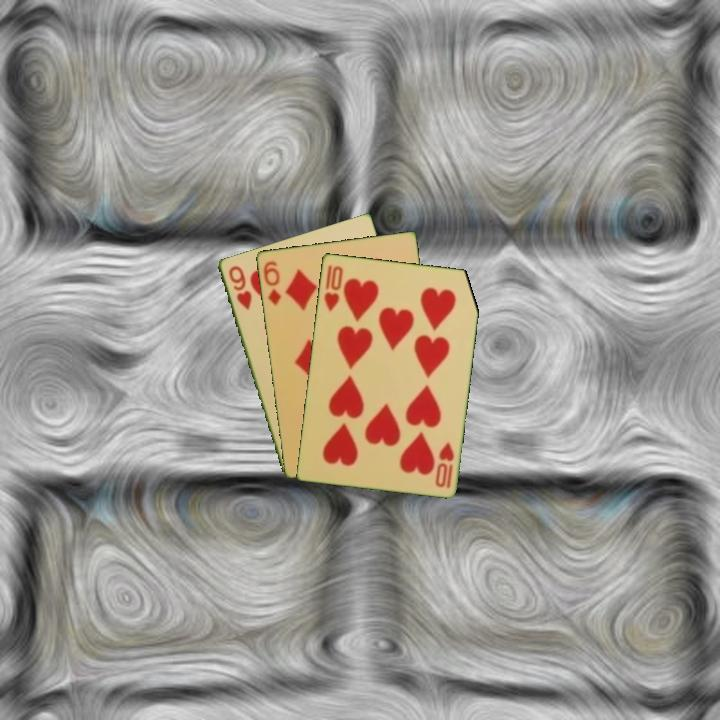10h: (320, 261, 345, 314), (432, 438, 457, 491)
6d: (260, 257, 284, 308)
9h: (225, 262, 254, 313)
